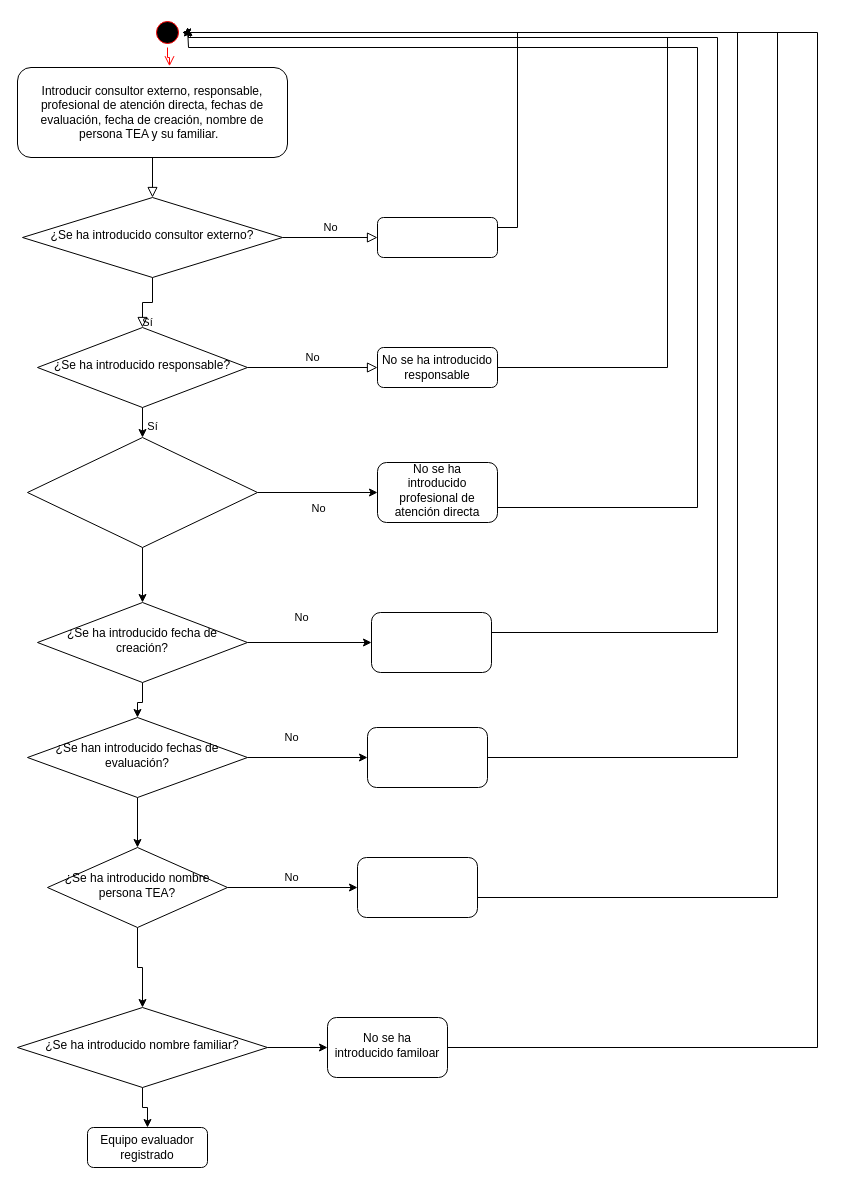
Some shapes in this 843 by 1185 pixel diagram are drawn without their labels. The shapes that lost their labels are listed below. From the top down, each one's box as (x1, y1, x2, y2) in pixels, then its label:
(376, 216, 498, 258): No se ha introducido consultor externo
(26, 436, 258, 548): ¿Se ha introducido profesional de atención directa?
(370, 612, 492, 672): No se ha introducido fecha de creación
(366, 726, 488, 788): No se han introducido fechas de evaluación
(356, 856, 478, 918): No se ha introducido nombre persona TEA
